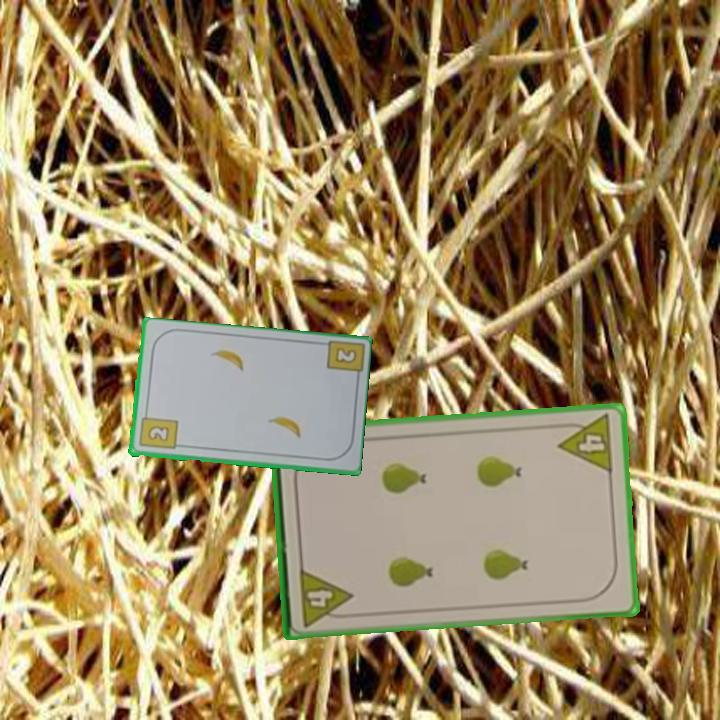2b: (135, 408, 180, 452), (331, 344, 360, 366)
4p: (554, 411, 616, 476), (295, 564, 356, 629)
